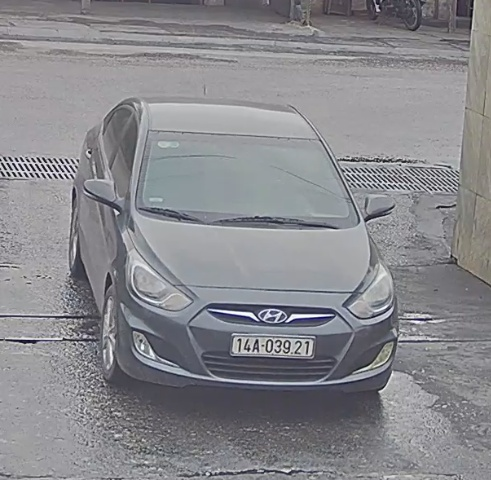vehicle plate: (228, 330, 317, 361)
